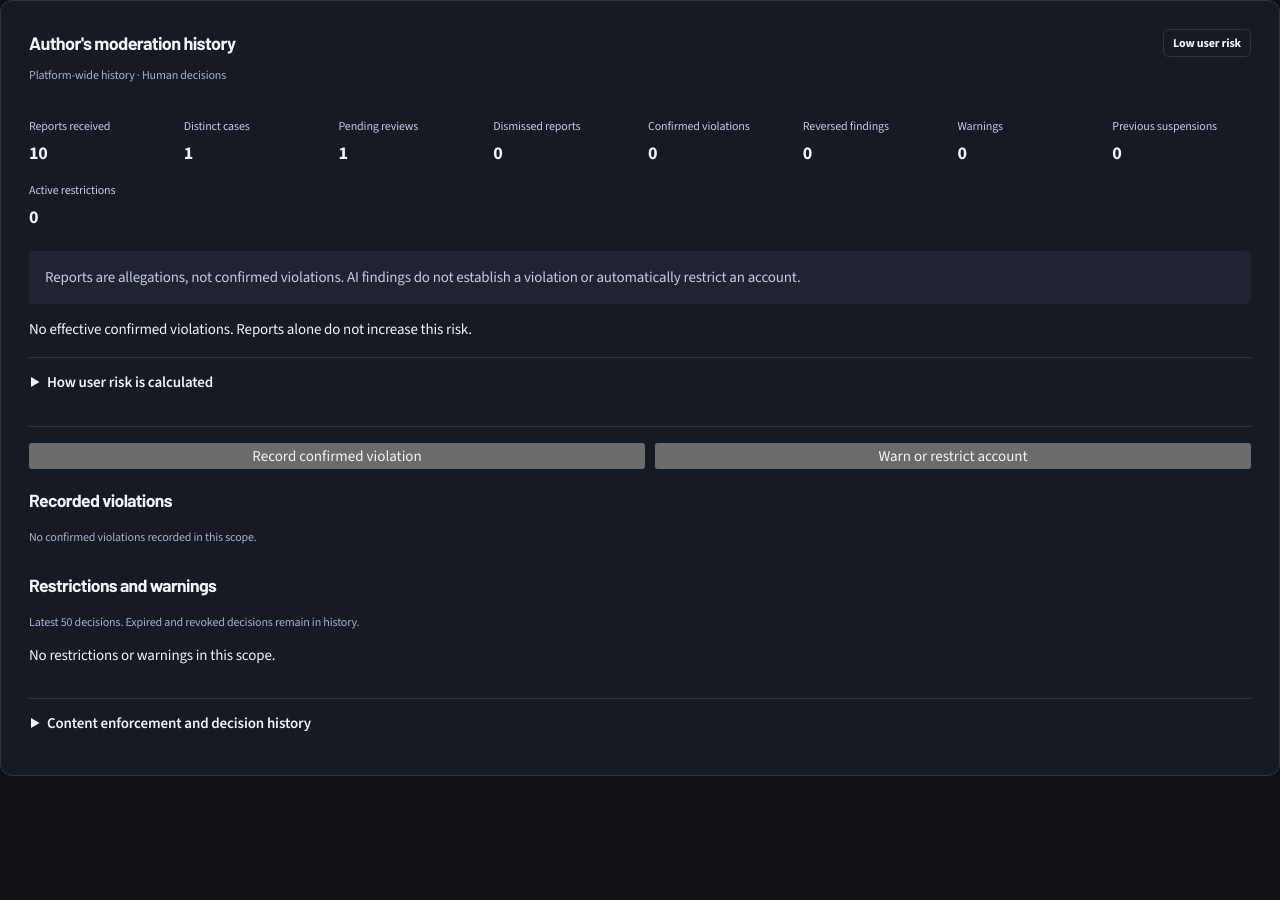
Scenario: requires an explicit human finding and preserves keyboard cancellation
Step 1. Click the button "Record confirmed violation" → coordinates (337, 456), box [29,443,645,469]
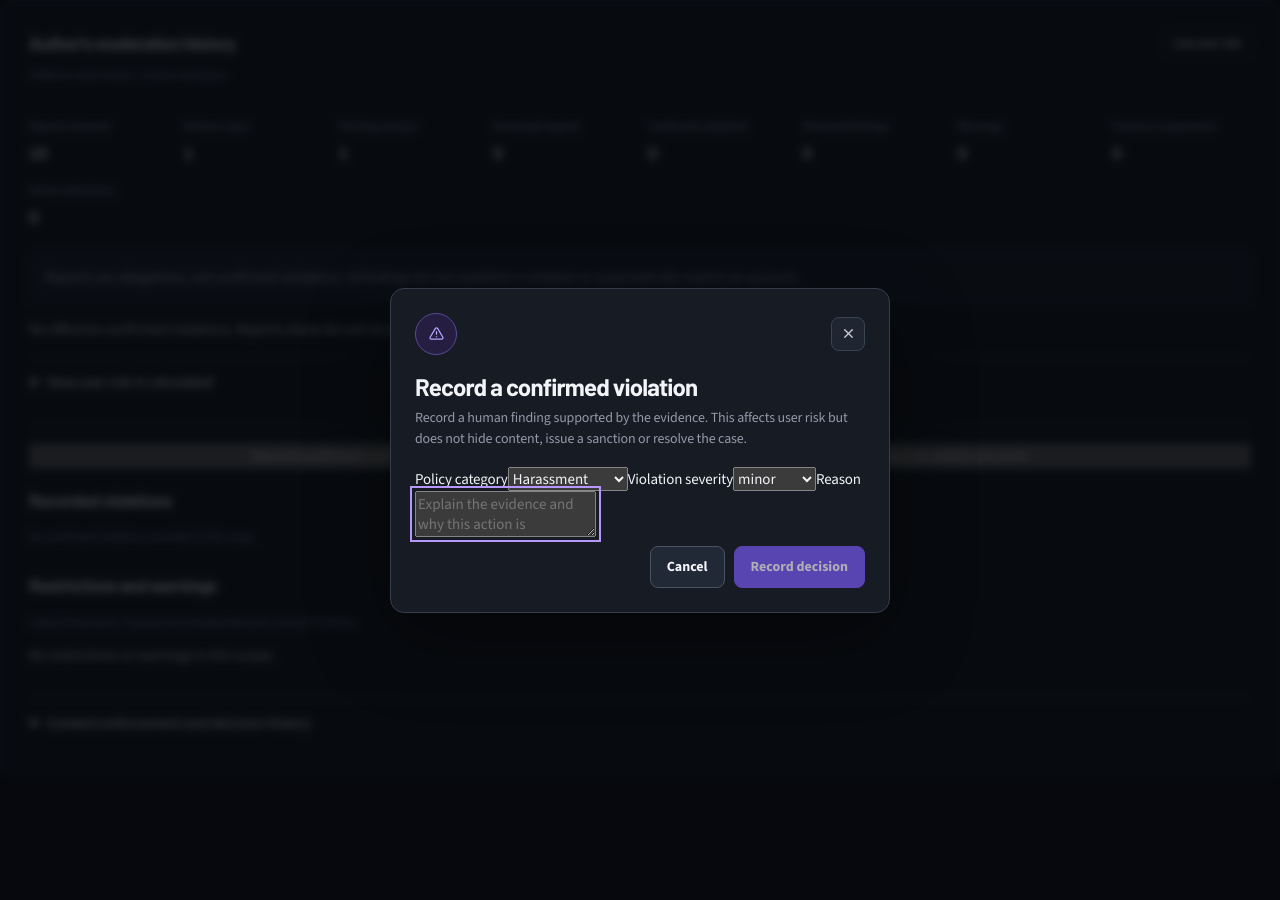
Step 2. Type "Confirmed by a human reviewer" into the text box named "Decision reason" → coordinates (506, 514), box [415,490,596,536]
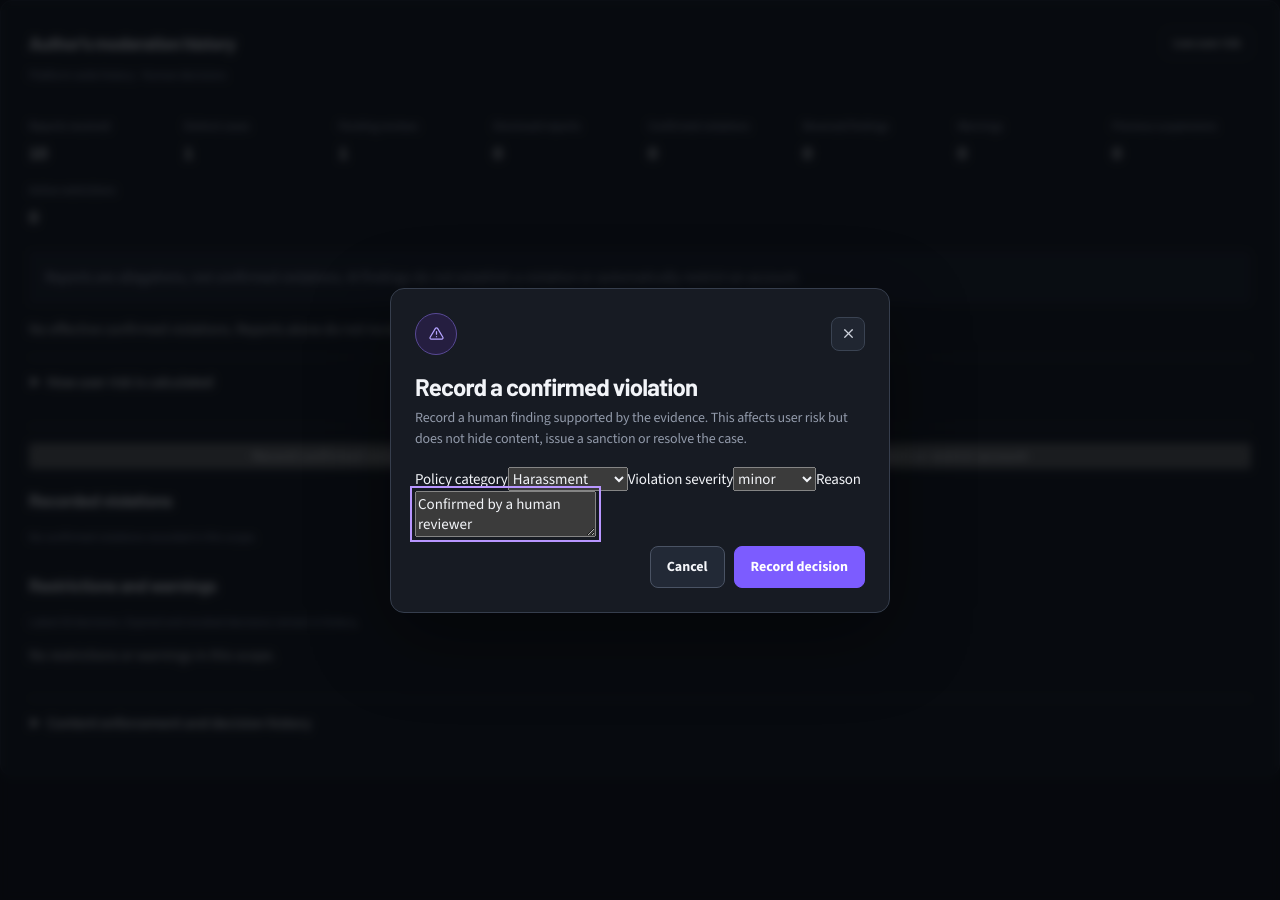
Step 3. Press Escape
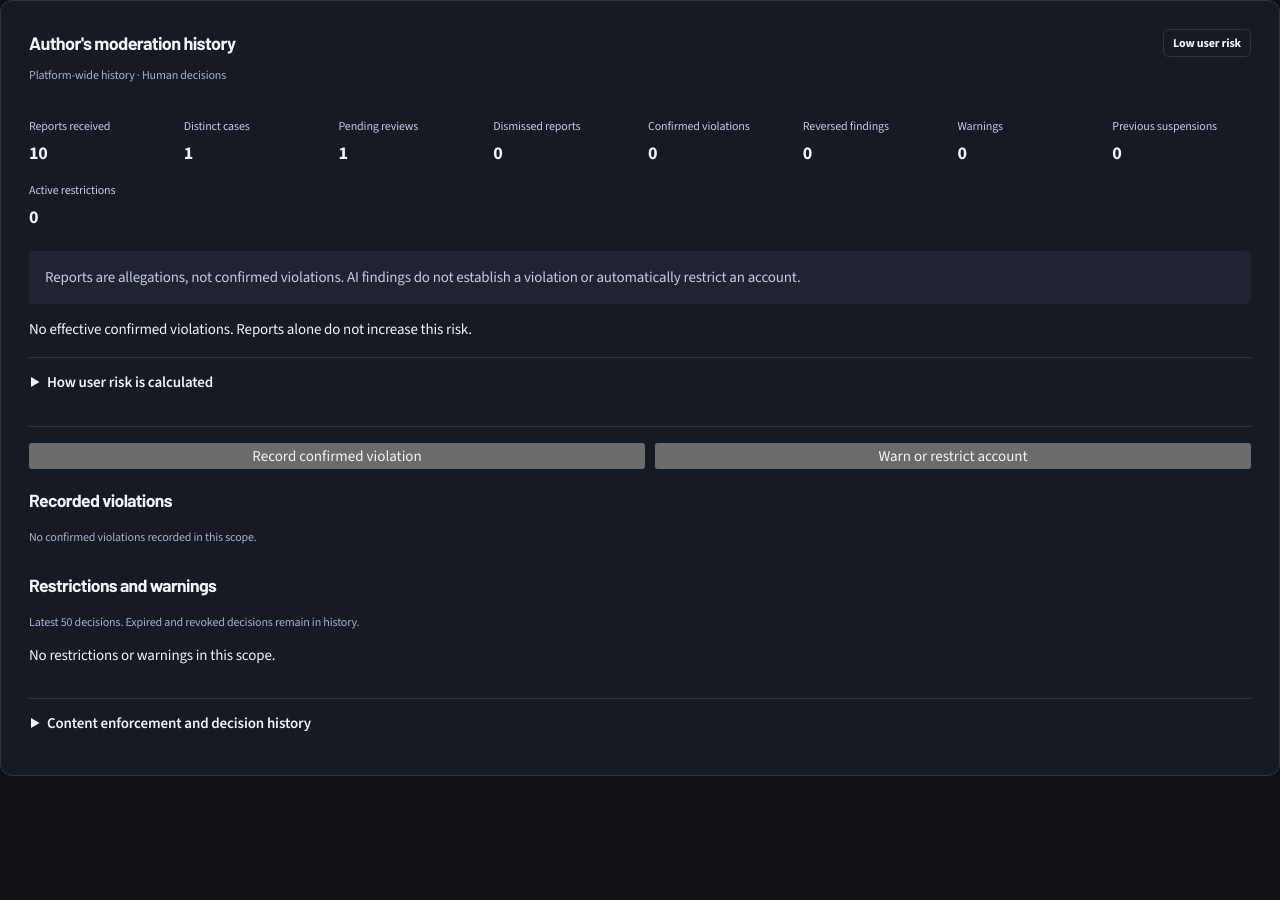
Expected: the dialog is gone
